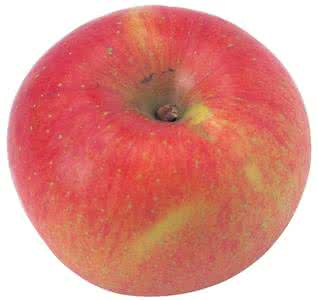apple: (1, 1, 314, 296)
